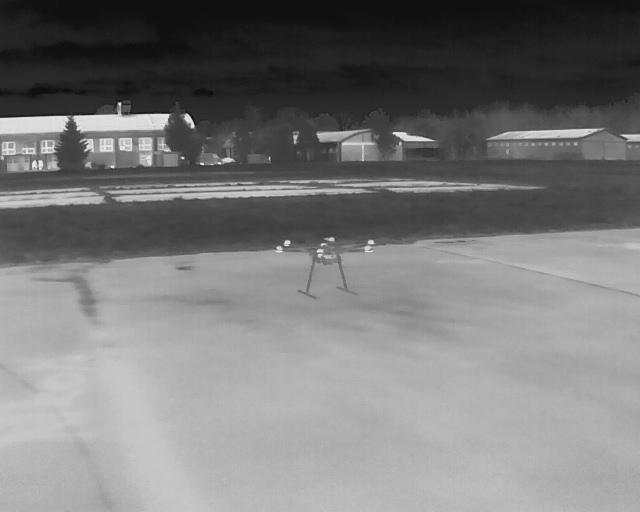drone: (258, 220, 391, 307)
